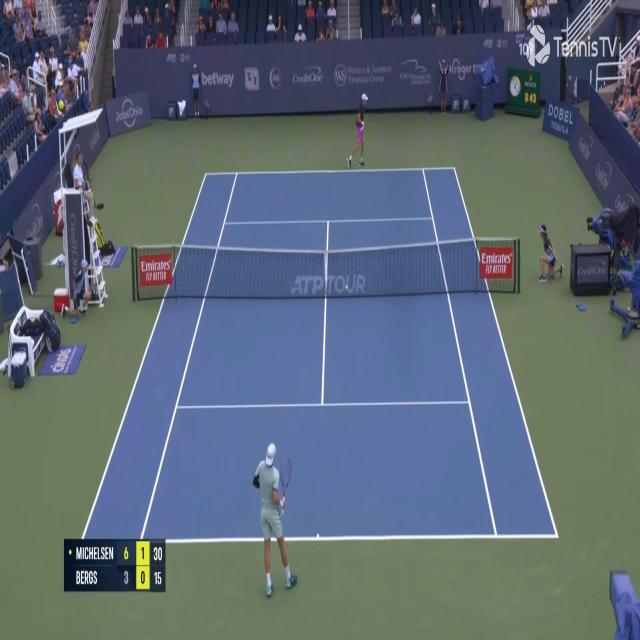tennis-player: (252, 439, 298, 599), (346, 89, 369, 172)
